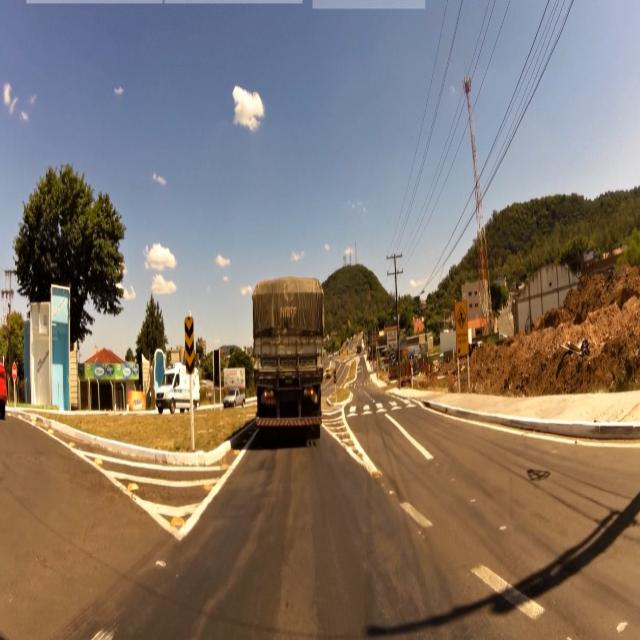MP: (184, 316, 194, 381)
